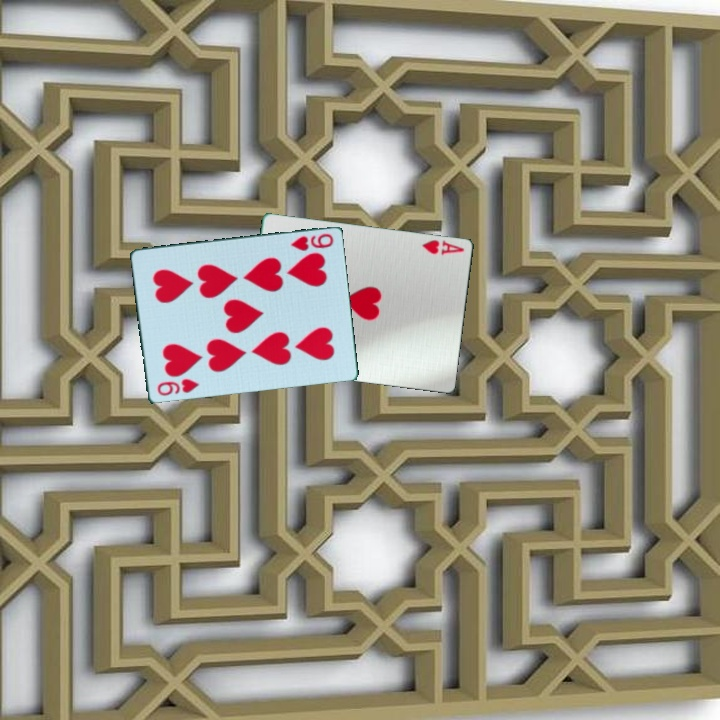9h: (287, 230, 336, 254), (154, 375, 202, 399)
Ah: (419, 236, 468, 257)
